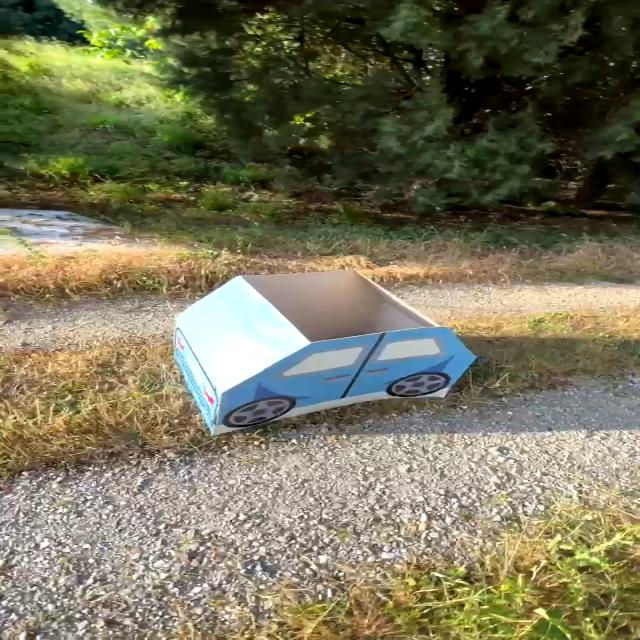blue_car: (153, 261, 512, 448)
